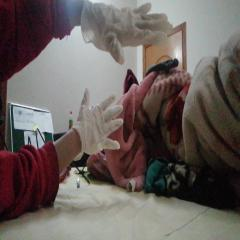gloved: (82, 3, 174, 65), (78, 88, 124, 151)
